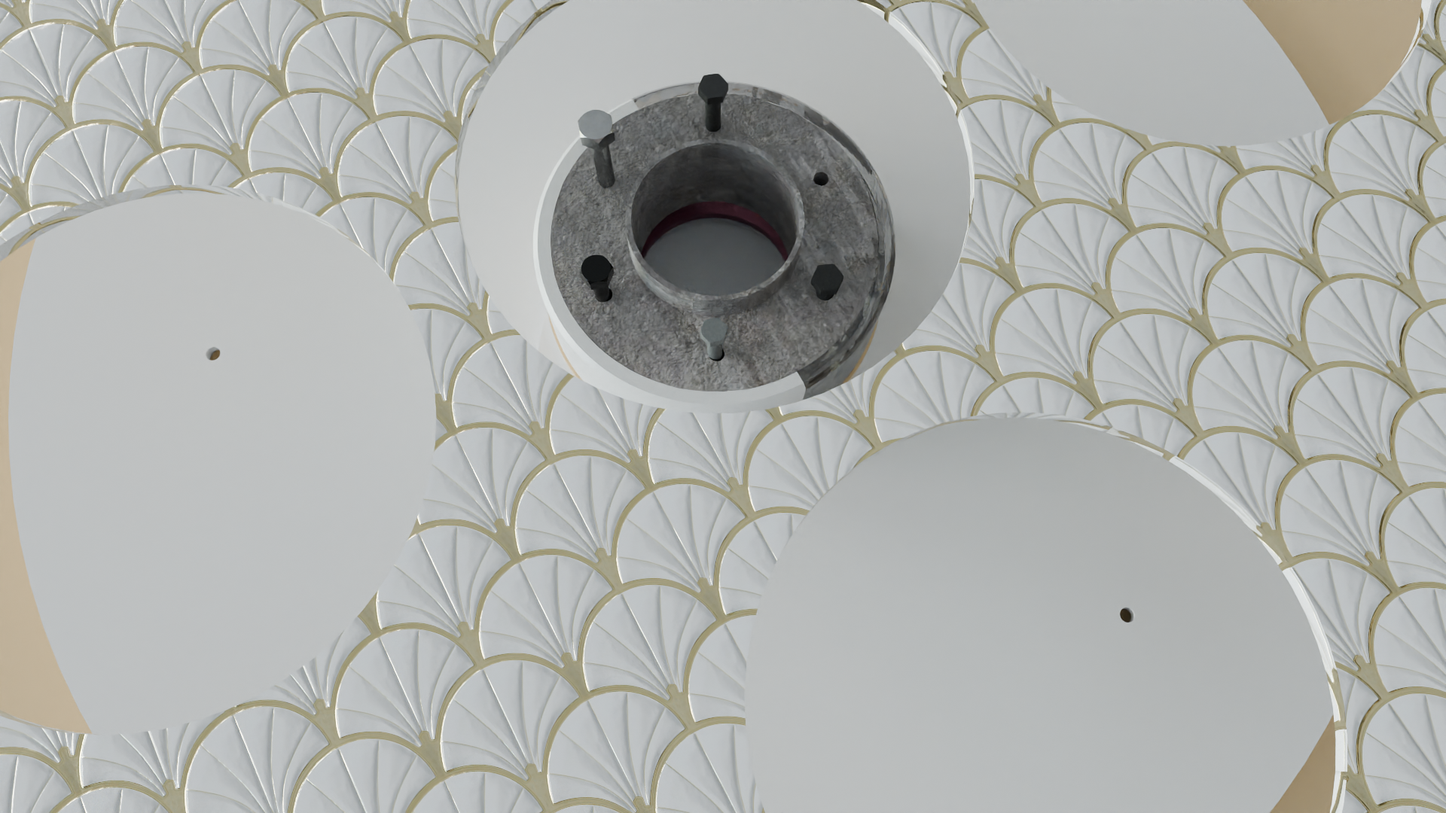bolt: (578, 110, 614, 143), (579, 254, 613, 285), (811, 264, 844, 291), (698, 74, 728, 99), (700, 317, 728, 343)
